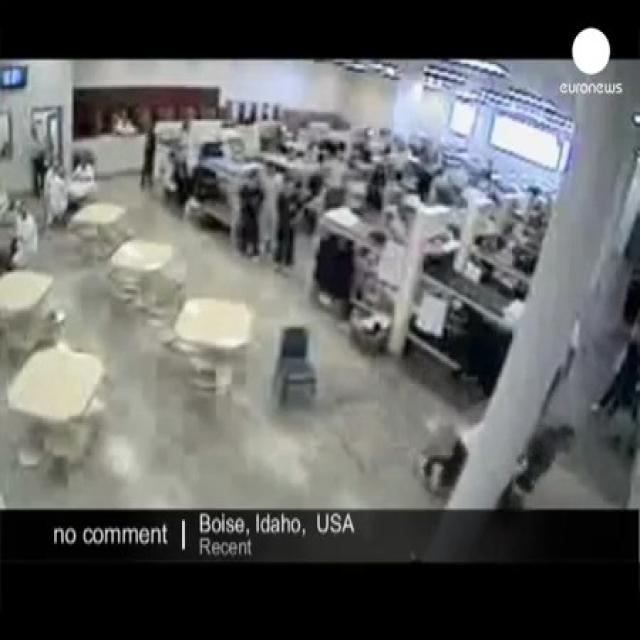fight: (417, 405, 585, 515)
